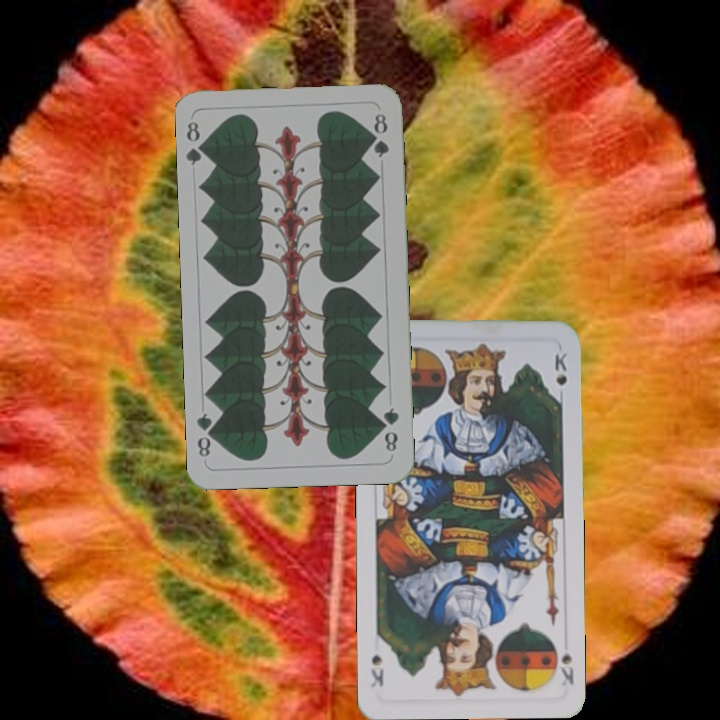G8: (182, 118, 210, 168), (378, 403, 402, 454)
SK: (550, 638, 576, 689)
